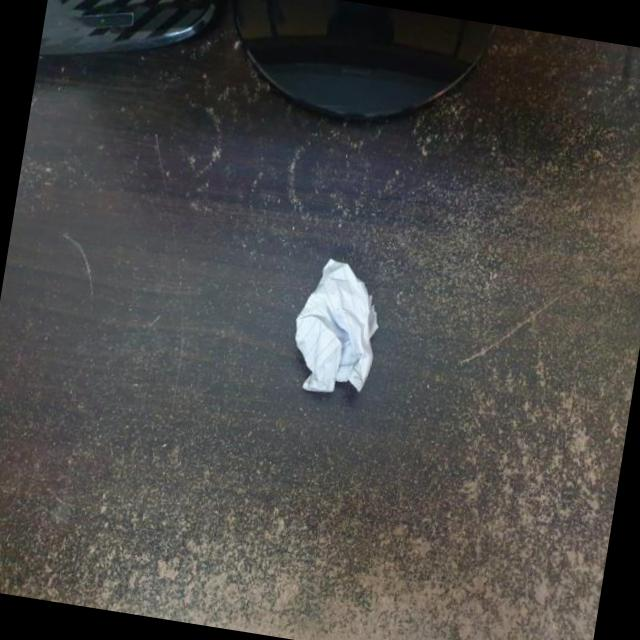cardboard paper: (293, 256, 375, 389)
